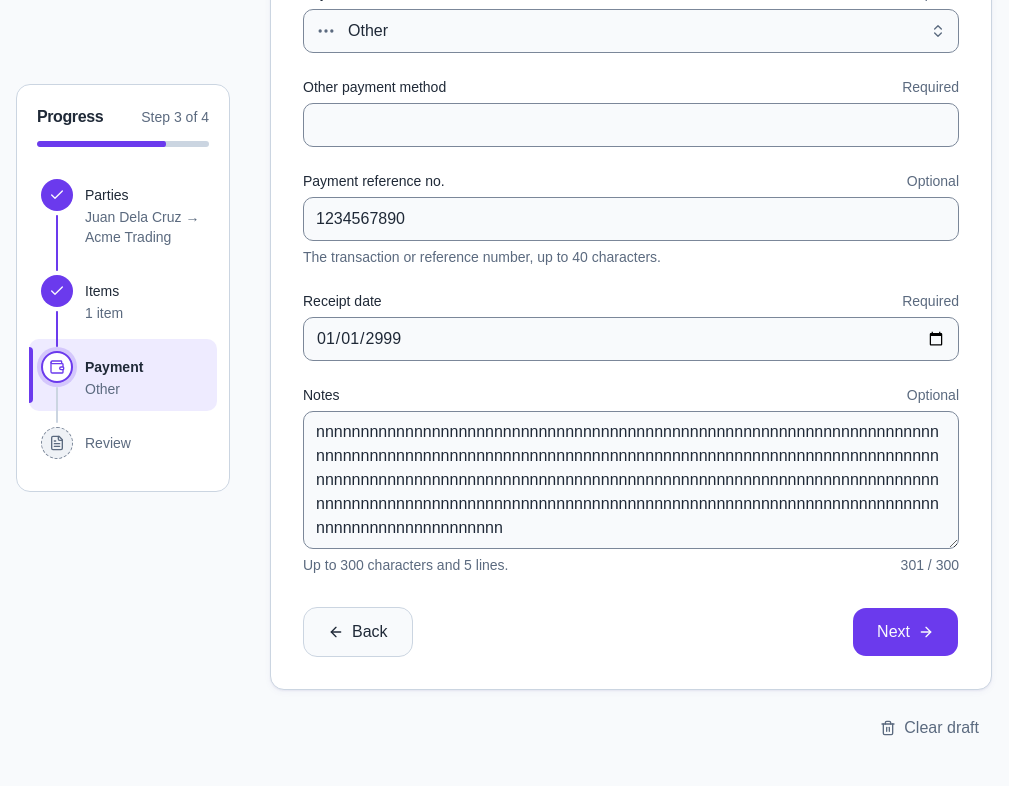
Test: the gate and the visible errors agree (divergence) › payment: Other without text, future date, notes over 300
(page scrolled)
Click the button "Next": [906, 632] box [852,607,959,657]
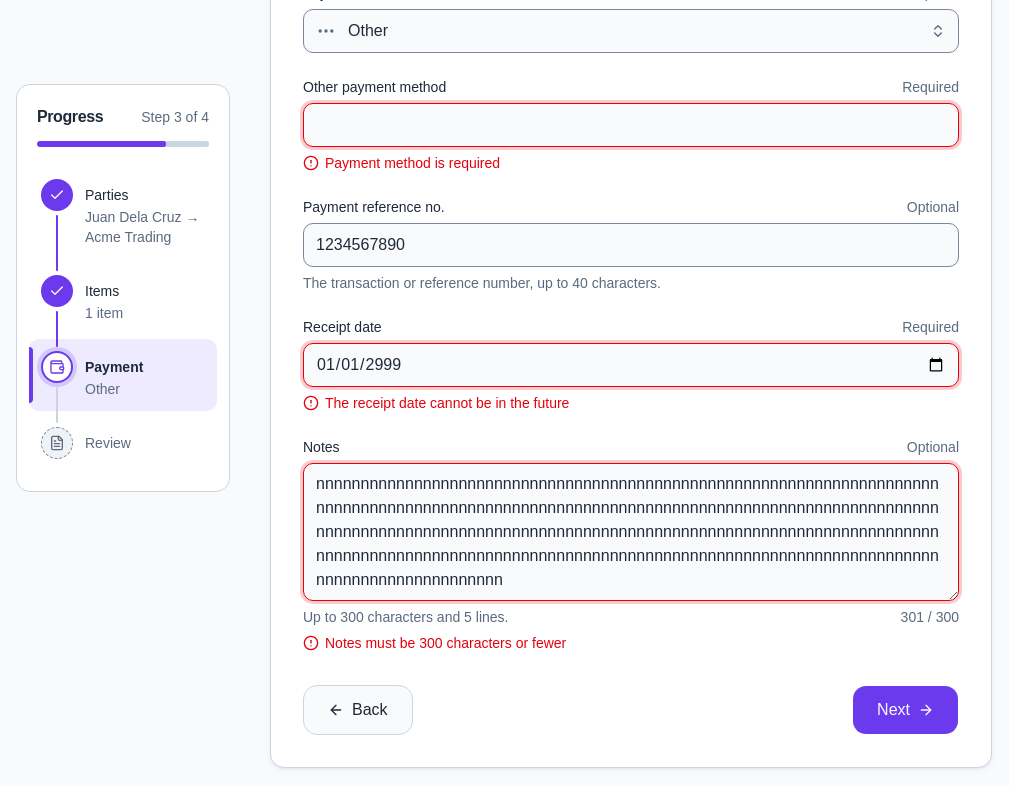
Result: the text "The receipt date cannot be in the future" is shown at [325,393,569,413]
